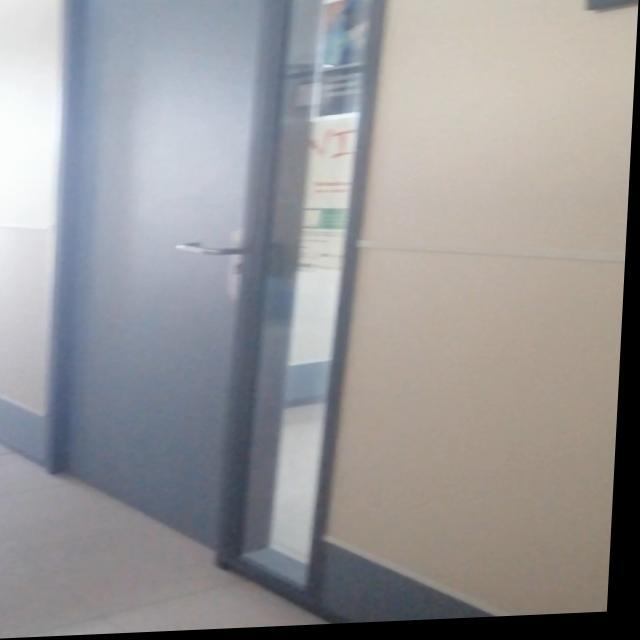door_handle: (169, 237, 252, 263)
